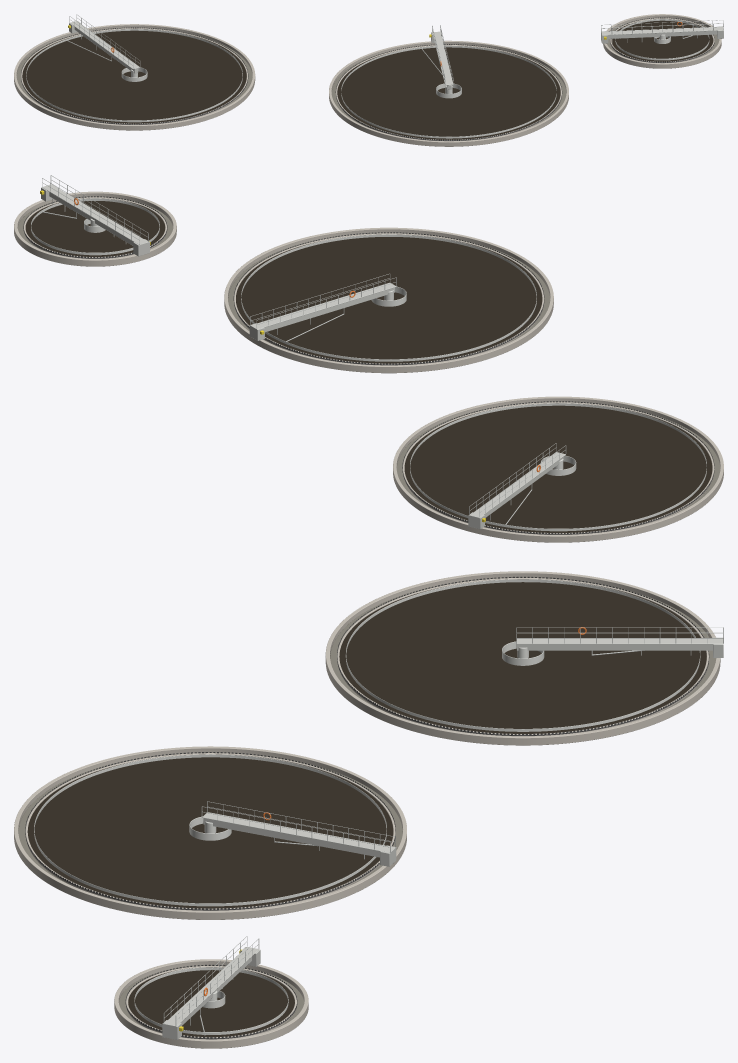
The model's file is Clarificateurs.glb.
3 views of the same model, one above another, from view 1: azimuth 30°, elevation 25°; view 2: azimuth 150°, elevation 25°; view 3: azimuth 270°, elevation 25° (orthographic). The views are drawn at different scales.
Visible parts, largest first — view 1: CL2_Eau, CL1_Eau, CL2_Beton, CL1_Beton, PCL_Eau, PCL_Beton, CL2_Jupe, CL1_Jupe, PCL_Pont, CL1_Pont, CL1_Lame_deversoir, CL2_Lame_deversoir (+10 smaller); view 2: CL1_Eau, CL2_Eau, CL1_Beton, CL2_Beton, PCL_Eau, PCL_Beton, CL2_Jupe, CL1_Jupe, CL2_Pont, PCL_Pont, CL1_Pont, CL2_Lame_deversoir (+7 smaller); view 3: CL1_Eau, CL2_Eau, CL1_Beton, CL2_Beton, PCL_Eau, PCL_Beton, CL1_Jupe, CL2_Jupe, CL1_Pont, CL2_Pont, PCL_Pont, CL1_Lame_deversoir (+7 smaller).
Boxes of the visible parts, <box> form: CL2_Eau: <box>337,47,560,139</box>; CL1_Eau: <box>22,30,246,123</box>; CL2_Beton: <box>329,40,568,146</box>; CL1_Beton: <box>14,24,255,130</box>; PCL_Eau: <box>611,20,713,61</box>; PCL_Beton: <box>603,14,721,68</box>; CL2_Jupe: <box>341,45,556,138</box>; CL1_Jupe: <box>26,29,242,122</box>; PCL_Pont: <box>601,26,723,38</box>; CL1_Pont: <box>70,21,139,73</box>; CL1_Lame_deversoir: <box>21,27,248,124</box>; CL2_Lame_deversoir: <box>335,44,562,140</box>; CL1_Eau: <box>404,405,712,532</box>; CL2_Eau: <box>236,237,542,363</box>; CL1_Beton: <box>393,396,723,542</box>; CL2_Beton: <box>224,227,553,373</box>; PCL_Eau: <box>25,201,165,256</box>; PCL_Beton: <box>14,191,176,266</box>; CL2_Jupe: <box>241,234,536,361</box>; CL1_Jupe: <box>410,403,706,531</box>; CL2_Pont: <box>250,282,396,333</box>; PCL_Pont: <box>42,184,148,250</box>; CL1_Pont: <box>469,452,565,522</box>; CL2_Lame_deversoir: <box>233,232,544,365</box>; CL1_Eau: <box>339,582,706,733</box>; CL2_Eau: <box>27,757,393,908</box>; CL1_Beton: <box>325,571,720,745</box>; CL2_Beton: <box>14,746,406,919</box>; PCL_Eau: <box>128,970,294,1037</box>; PCL_Beton: <box>114,959,308,1048</box>; CL1_Jupe: <box>345,579,700,731</box>; CL2_Jupe: <box>34,754,386,906</box>; CL1_Pont: <box>516,638,723,650</box>; CL2_Pont: <box>202,812,395,858</box>; PCL_Pont: <box>164,947,258,1033</box>; CL1_Lame_deversoir: <box>337,576,709,735</box>.
Bounding box in the file's own units: 105 × 3.37 × 67.11.
Materials: 9 (9 with a texture image).
